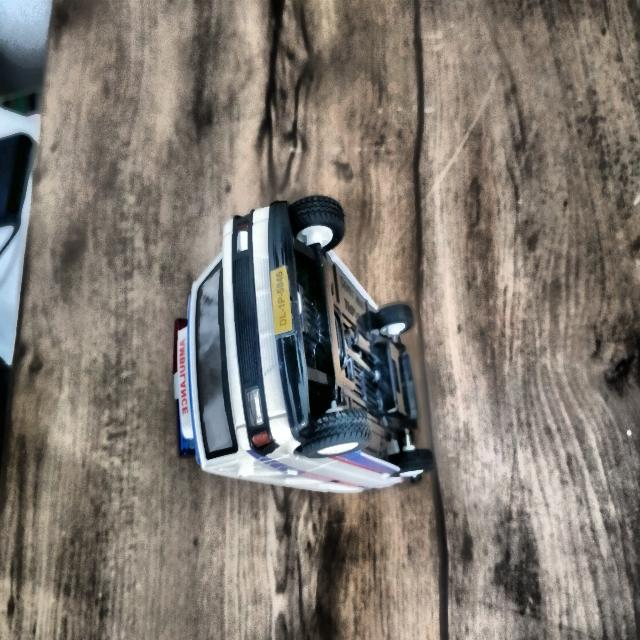Ambulance: (142, 194, 446, 514)
